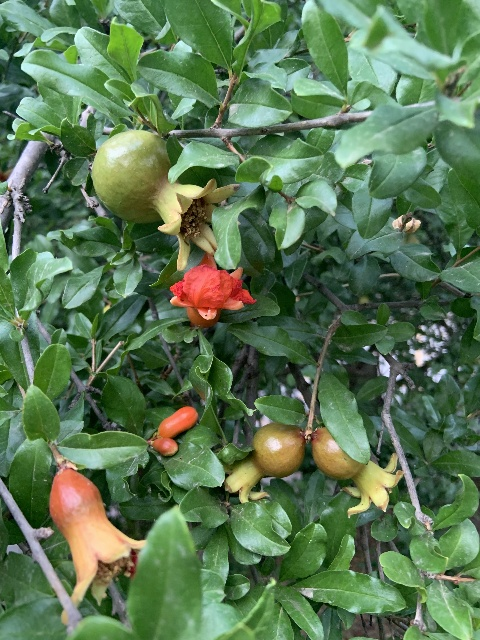bud: (157, 405, 197, 438), (151, 437, 177, 456)
early-fruit: (49, 469, 146, 609), (311, 427, 404, 517), (223, 422, 304, 504)
flower: (169, 253, 256, 324)
mid-growth: (91, 129, 238, 271)
